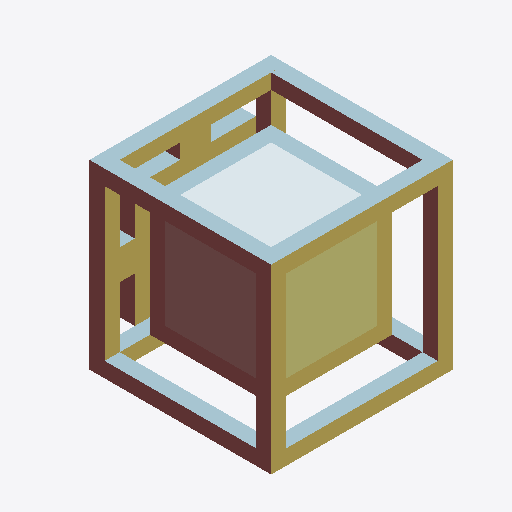
Isometric view (azimuth 45°, elevation 35.3°) of a Minecraft model made of 19 cuboids, textured from the same repository.
Visible parts, largest first — element 2, element 5, element 6, element 4, element 19, element 17, element 9, element 8, element 18, element 3, element 10, element 7 (+4 smaller).
Boxes of the visible parts, box(x1,y1,x2,y2) form: element 2: box(150, 125, 391, 395); element 5: box(256, 151, 452, 281); element 6: box(89, 55, 285, 185); element 4: box(256, 352, 452, 473); element 19: box(120, 108, 255, 325); element 17: box(105, 160, 270, 272); element 9: box(89, 177, 119, 360); element 8: box(256, 274, 285, 456); element 18: box(271, 64, 436, 168); element 3: box(105, 352, 255, 464); element 10: box(423, 178, 452, 360); element 7: box(89, 317, 164, 377).
Size of the model in its own units: 12 by 12 by 14.